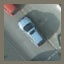car: (16, 16, 46, 47)
